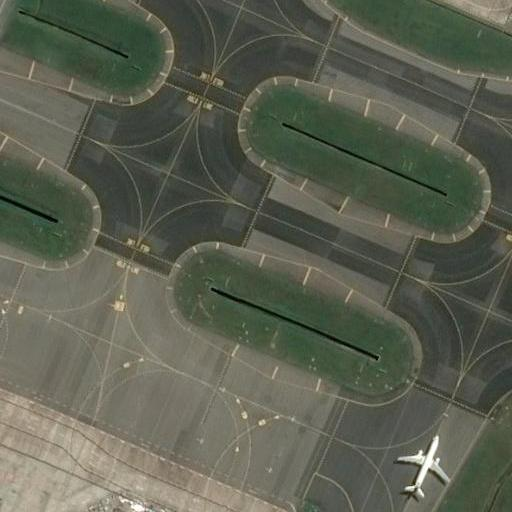Aircraft: (396, 432, 453, 502)
